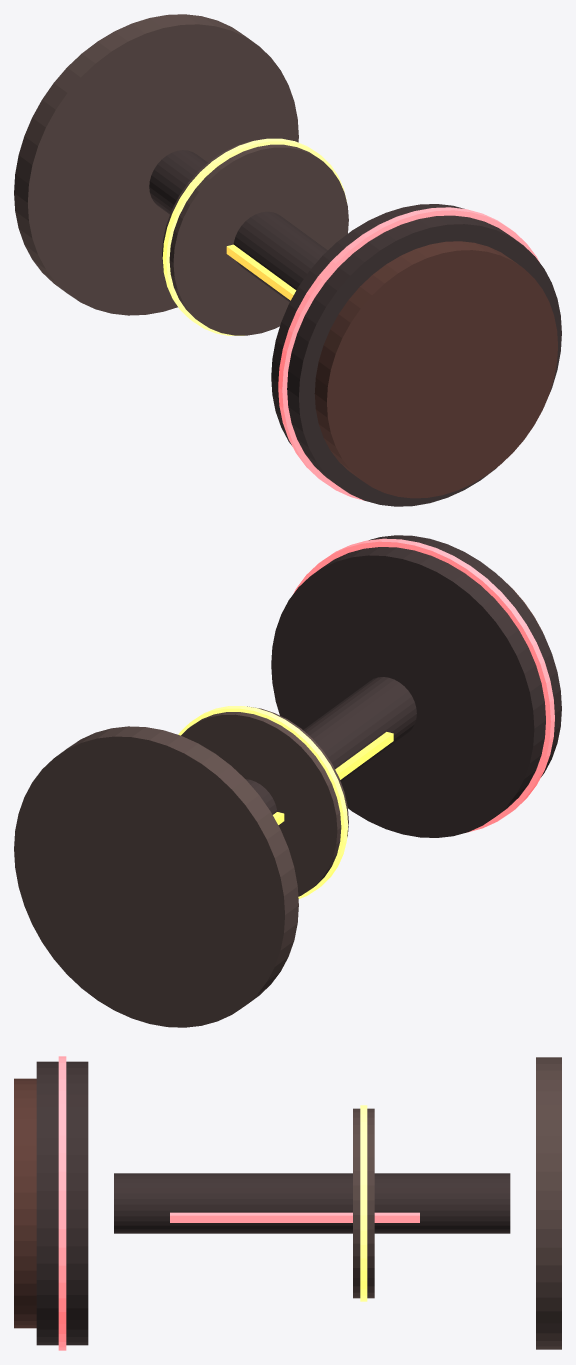
The model's file is pedestal_barstool_red_orange.glb.
3 renders of one model, top to bottom at view 1: azimuth 30°, elevation 25°; view 2: azimuth 150°, elevation 25°; view 3: azimuth 270°, elevation 25°, orthographic. The views are drawn at different scales.
Visible parts, largest first — view 1: base_disc, dark_non_glowing_cushion, footrest_collar_metal, seat_hard_shell, center_pole, seat_outer_trim_band, footrest_trim_band, attached_pole_trim_back; view 2: base_disc, seat_hard_shell, footrest_collar_metal, center_pole, seat_outer_trim_band, footrest_trim_band, attached_pole_trim_back; view 3: center_pole, seat_hard_shell, base_disc, dark_non_glowing_cushion, footrest_collar_metal, seat_outer_trim_band, attached_pole_trim_front, footrest_trim_band.
Boxes of the visible parts, <box> form: base_disc: <box>14,14,298,315</box>; dark_non_glowing_cushion: <box>314,241,557,498</box>; footrest_collar_metal: <box>162,139,348,335</box>; seat_hard_shell: <box>271,204,561,506</box>; center_pole: <box>149,150,327,302</box>; seat_outer_trim_band: <box>278,207,539,500</box>; footrest_trim_band: <box>162,138,346,335</box>; attached_pole_trim_back: <box>226,244,296,300</box>; base_disc: <box>14,726,298,1027</box>; seat_hard_shell: <box>271,535,561,837</box>; footrest_collar_metal: <box>181,706,348,896</box>; center_pole: <box>245,677,416,814</box>; seat_outer_trim_band: <box>293,538,554,832</box>; footrest_trim_band: <box>178,706,348,898</box>; attached_pole_trim_back: <box>273,732,393,824</box>; center_pole: <box>114,1173,510,1233</box>; seat_hard_shell: <box>36,1061,88,1345</box>; base_disc: <box>536,1057,561,1349</box>; dark_non_glowing_cushion: <box>14,1078,36,1328</box>; footrest_collar_metal: <box>353,1108,374,1298</box>; seat_outer_trim_band: <box>58,1056,66,1350</box>; attached_pole_trim_front: <box>170,1212,419,1222</box>; footrest_trim_band: <box>360,1105,367,1301</box>.
Bounding box in the file's own units: 0.684 × 0.684 × 1.27.
